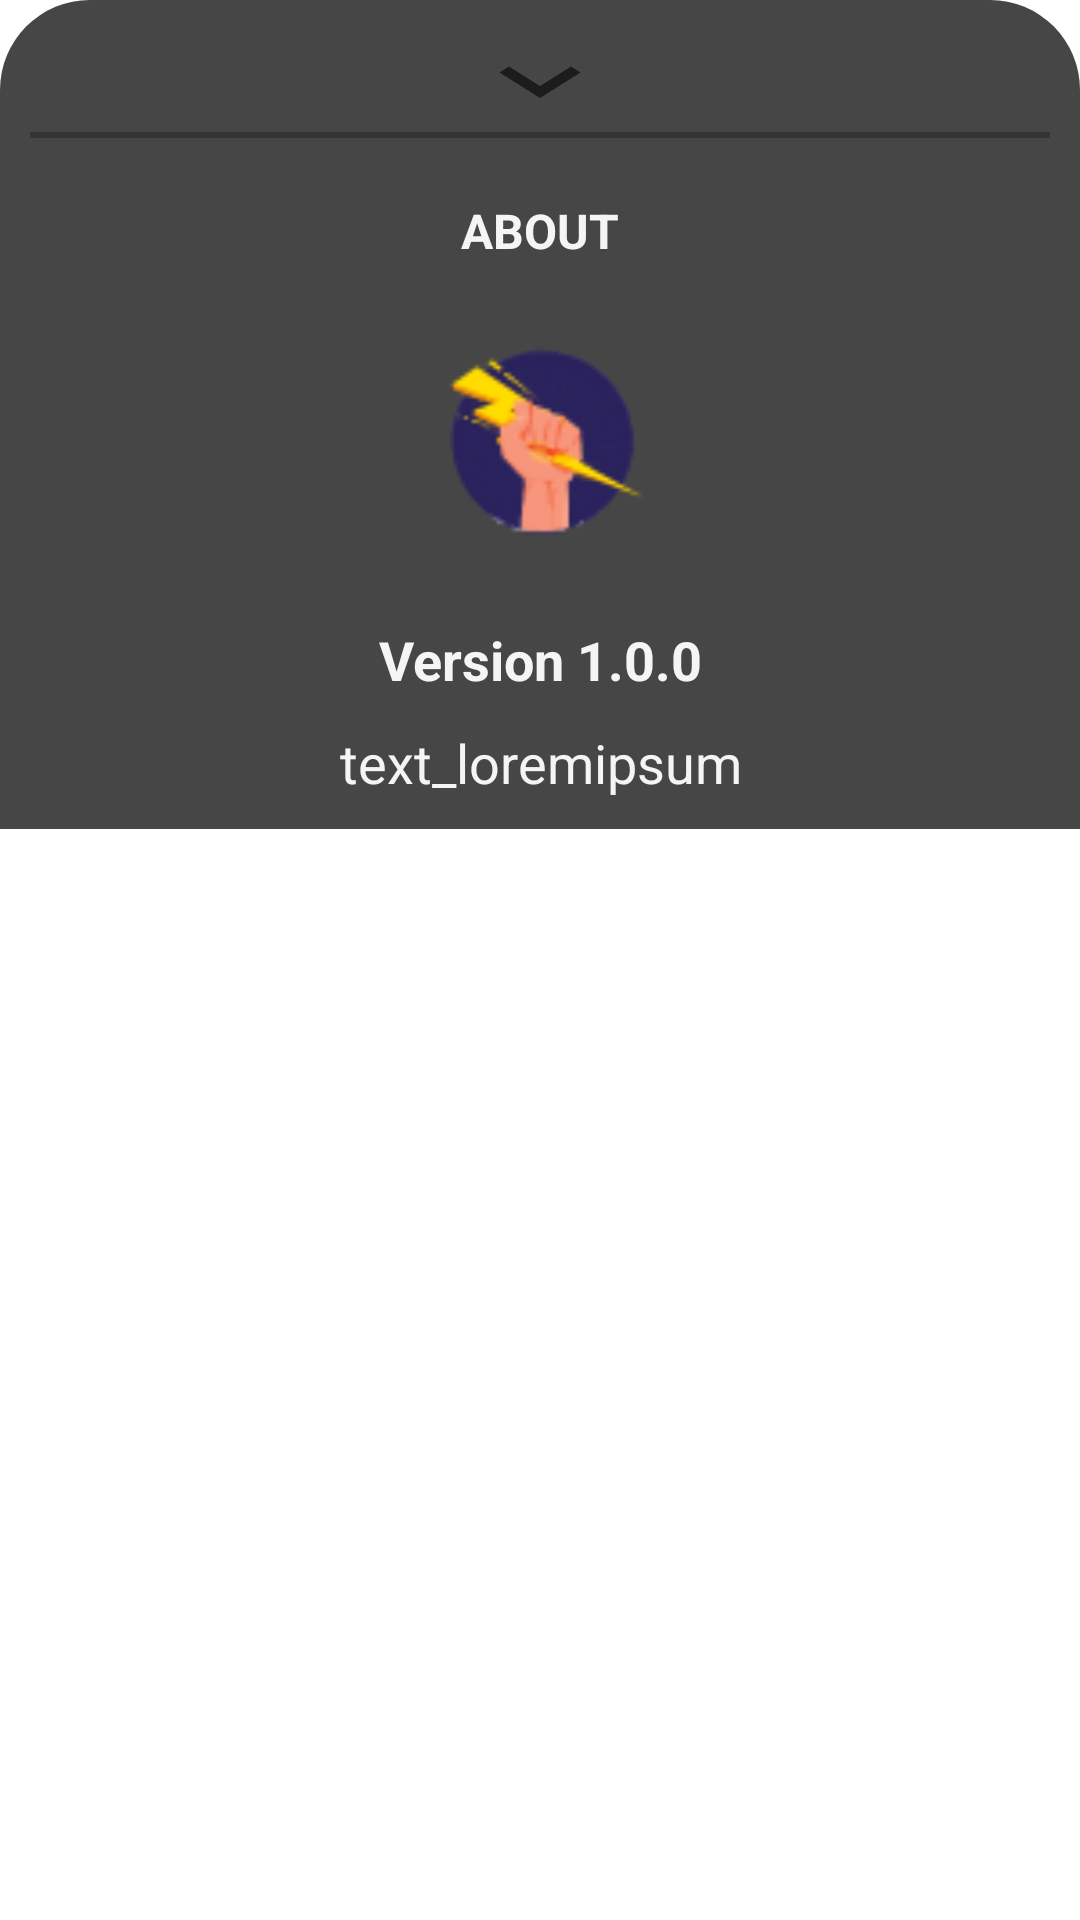

Icons on this 1080*1920 Android screen, each with its box as (x1, y1, x2, y2):
arrow down: (500, 67, 580, 98)
